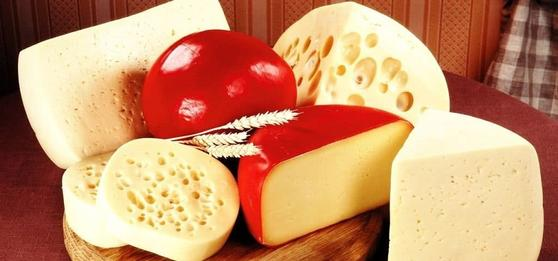cheese: (386, 108, 548, 261), (244, 105, 412, 244)
